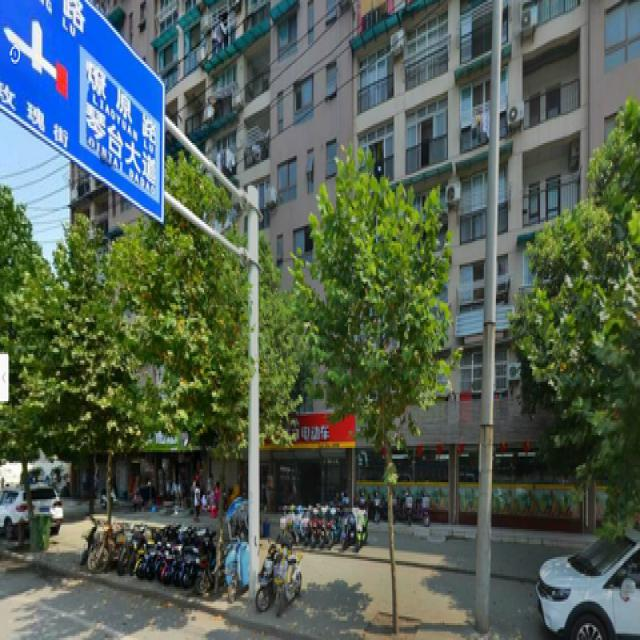meta: (296, 158, 461, 625)
